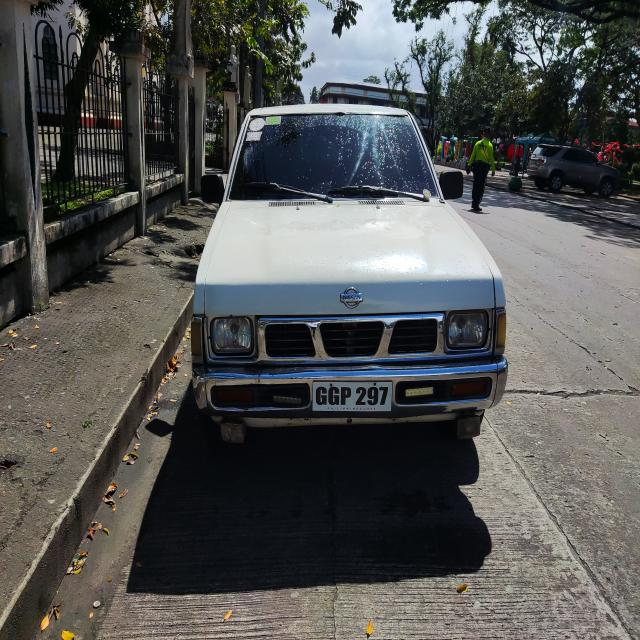plate: (311, 378, 394, 412)
